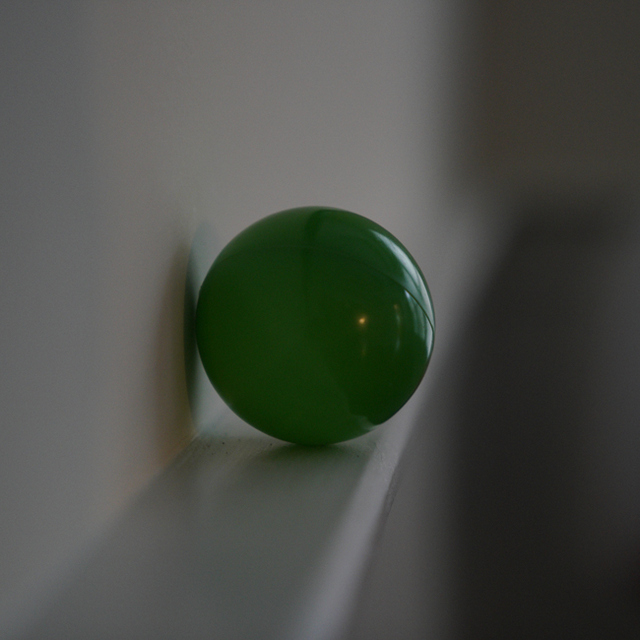Ball: (187, 206, 434, 450)
